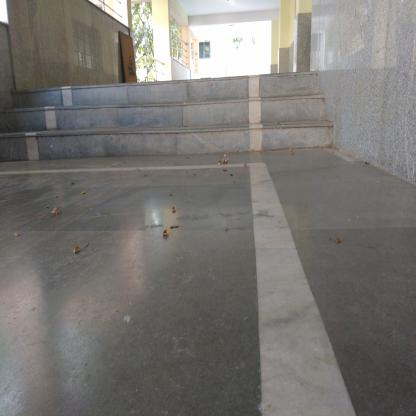stairs: (23, 86, 318, 166)
